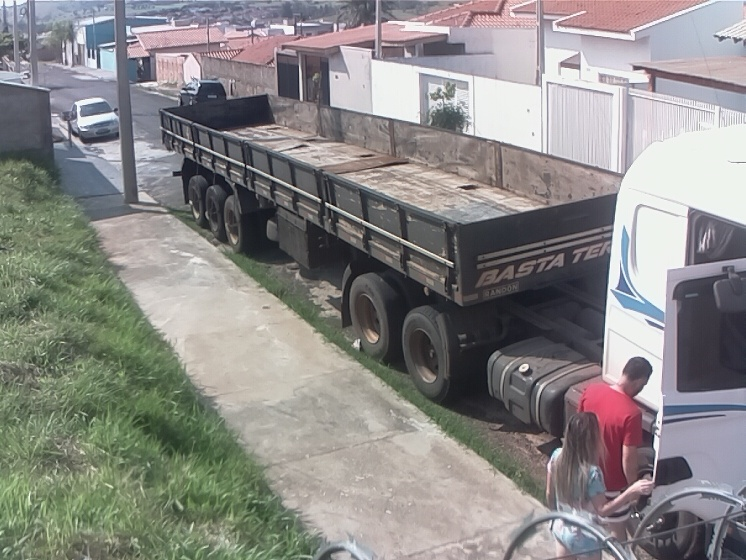person: (576, 352, 654, 560), (544, 410, 652, 560)
